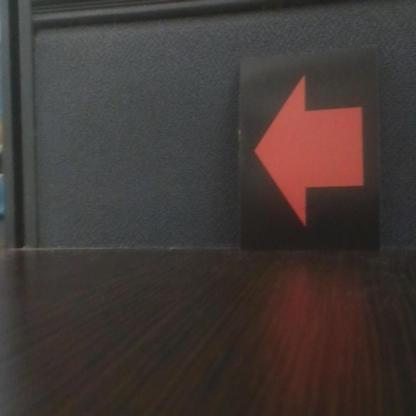left: (241, 60, 381, 248)
